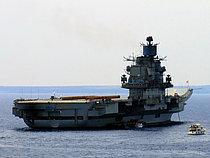MIL_Ship: (10, 34, 194, 126)
